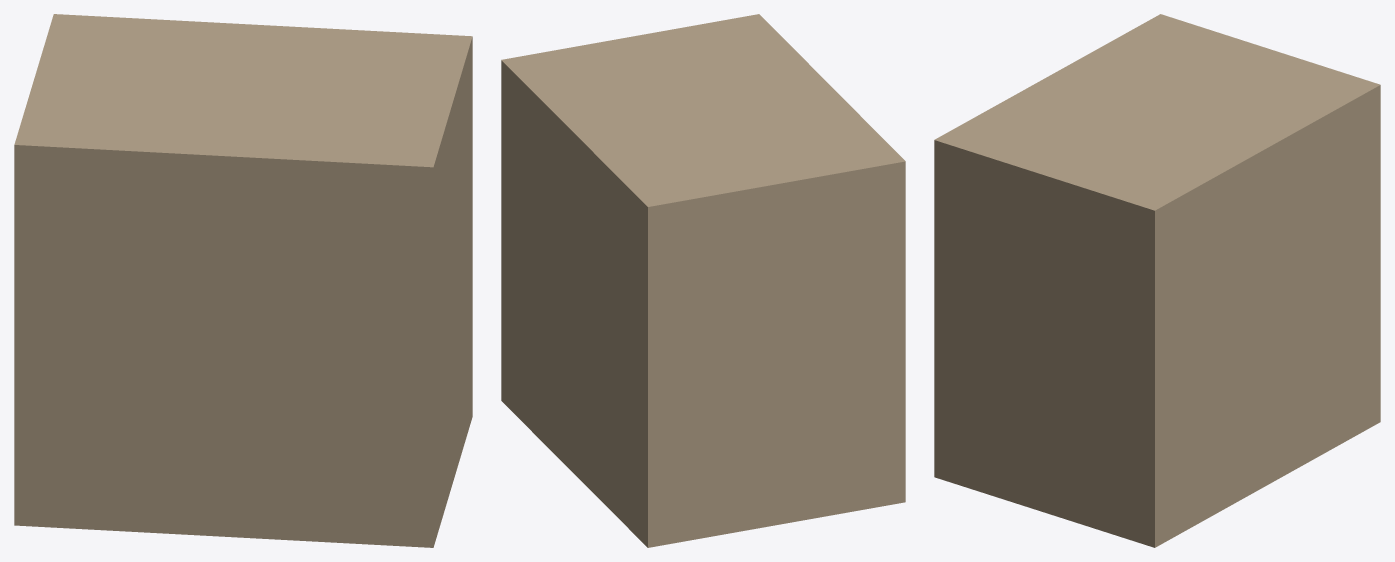
Rendered from bld_99615992.dae.
3 views of the same model, side by side, from view 1: azimuth 30°, elevation 25°; view 2: azimuth 150°, elevation 25°; view 3: azimuth 270°, elevation 25° (orthographic). The views are drawn at different scales.
Parts seen in each view (by area): view 1: bld_99615992; view 2: bld_99615992; view 3: bld_99615992.
Part boxes in pixels (left/top/right/bottom): bld_99615992: left=14, top=14, right=472, bottom=547; bld_99615992: left=501, top=14, right=905, bottom=547; bld_99615992: left=934, top=14, right=1380, bottom=547.
Bounding box in the file's own units: 10.01 × 9.6 × 8.
